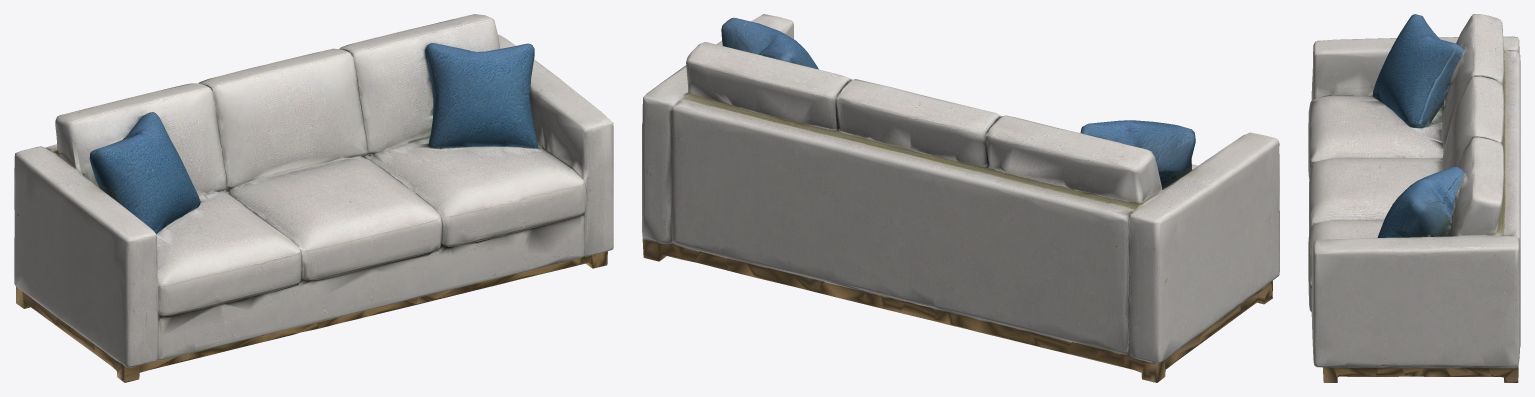
The model's file is White Three Seater.glb.
The picture shows the model from 3 angles, left to right: view 1: azimuth 30°, elevation 25°; view 2: azimuth 150°, elevation 25°; view 3: azimuth 270°, elevation 25°; orthographic projection. The views are drawn at different scales.
Visible parts, largest first — view 1: Mesh_0; view 2: Mesh_0; view 3: Mesh_0.
Boxes of the visible parts, x1,y1,x2,y2 form: Mesh_0: [14, 14, 613, 382]; Mesh_0: [642, 14, 1279, 382]; Mesh_0: [1308, 14, 1520, 382].
Bounding box in the file's own units: 2.26 × 0.8497 × 0.9451.
Materials: 1 (1 with a texture image).
